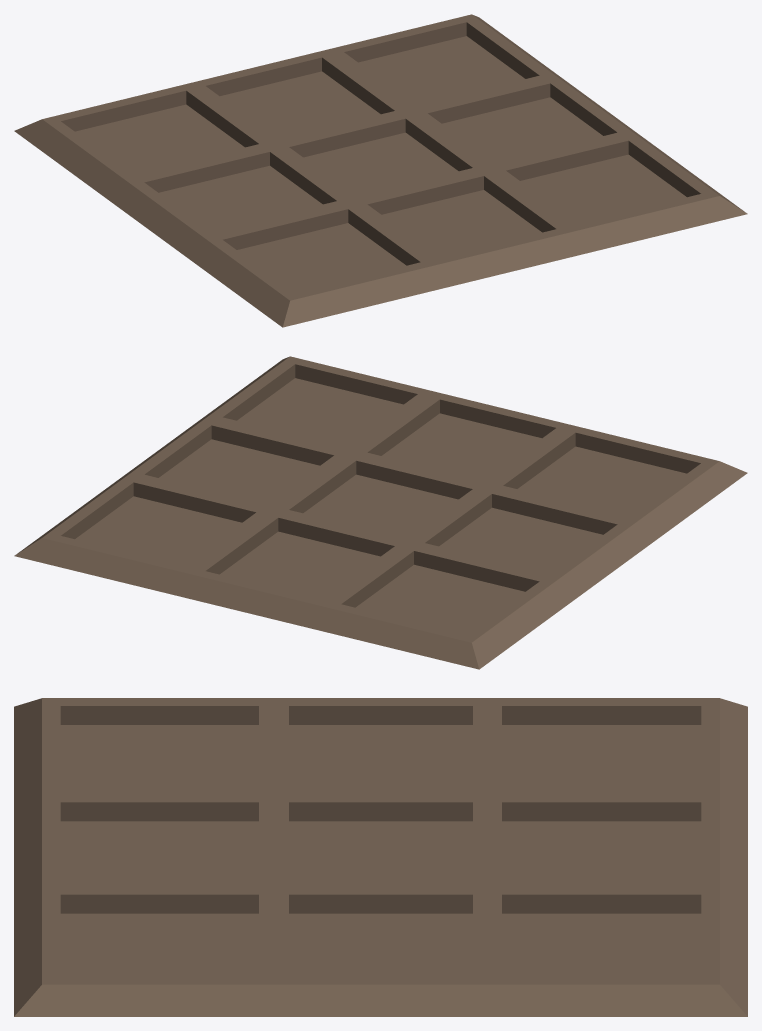
Rendered from Main Board.fbx.
3 views of the same model, one above another, from view 1: azimuth 30°, elevation 25°; view 2: azimuth 150°, elevation 25°; view 3: azimuth 270°, elevation 25° (orthographic). The views are drawn at different scales.
Parts seen in each view (by area): view 1: Main_Playing_field; view 2: Main_Playing_field; view 3: Main_Playing_field.
Boxes of the visible parts, x1,y1,x2,y2 form: Main_Playing_field: [14, 14, 747, 327]; Main_Playing_field: [14, 356, 747, 669]; Main_Playing_field: [14, 698, 747, 1016].
Size of the model in its own units: 39.43 by 1.21 by 39.43.
